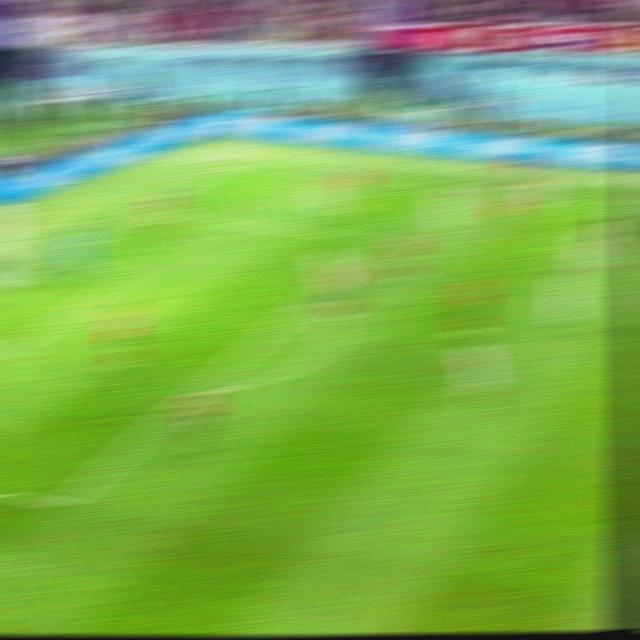bigarea_bottom_inner: (43, 488, 83, 516)
bigarea_top_inner: (369, 229, 402, 249)
bigarea_top_outter: (128, 201, 160, 220)
bottom_arc_area_intersection: (182, 380, 217, 401)
corner: (214, 156, 246, 170)
smallarea_top_inner: (124, 258, 158, 278)
smallarea_top_outter: (42, 249, 74, 267)
top_arc_area_intersection: (293, 291, 325, 310)
